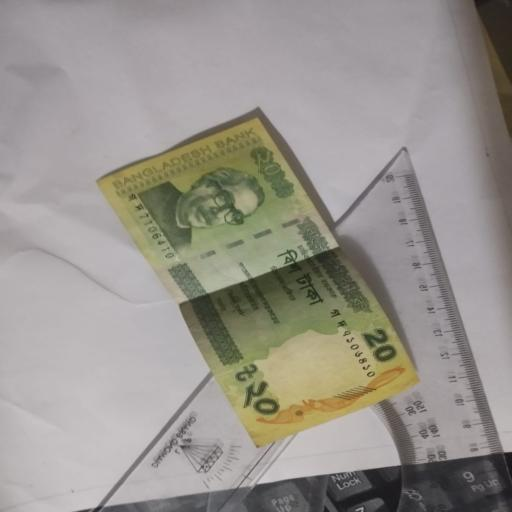20taka: (98, 116, 430, 449)
